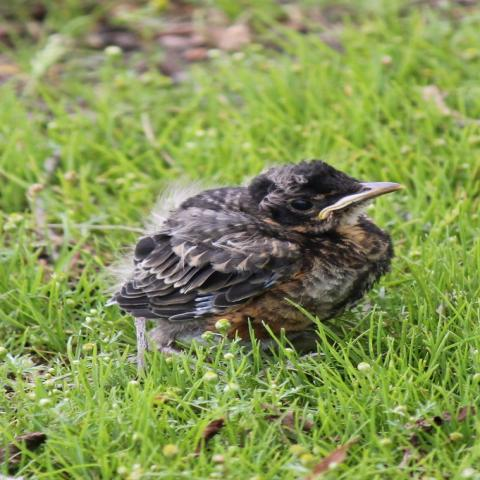bird: (103, 157, 405, 374)
